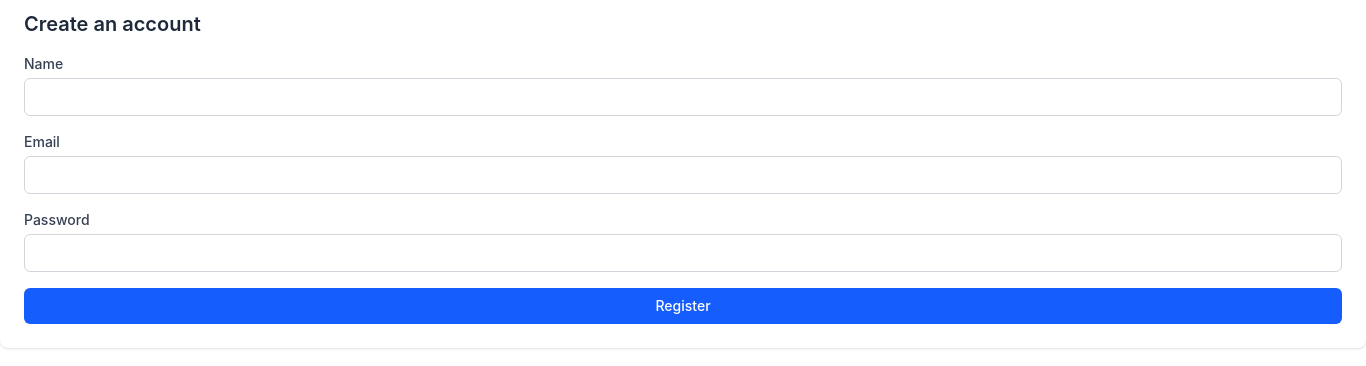
Test: disables the register button while the mutation is pending
In the field labelled "Name": (683, 97) x1=24 y1=78 x2=1342 y2=116, type "Jane Doe"
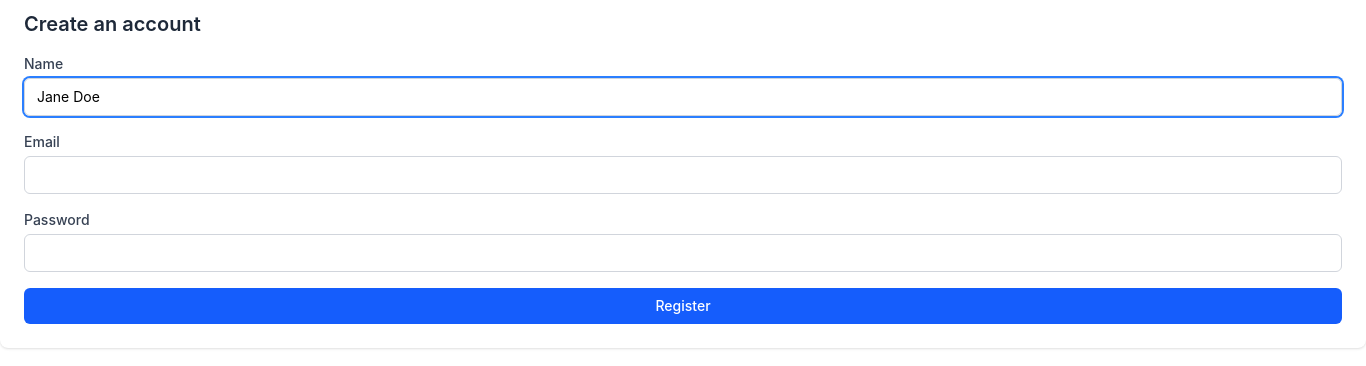
In the field labelled "Email": (683, 175) x1=24 y1=156 x2=1342 y2=194, type "jane@example.com"
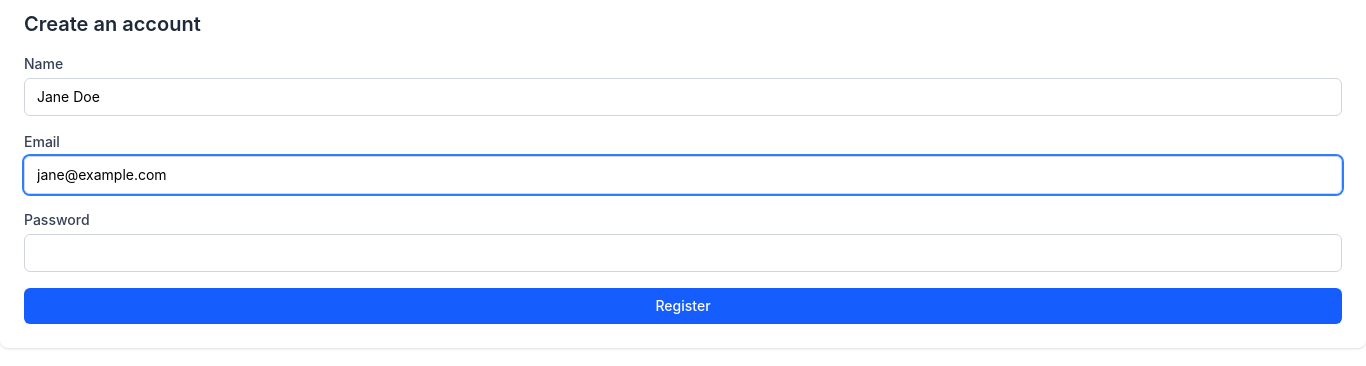
In the password field labelled "Password": (683, 253) x1=24 y1=234 x2=1342 y2=272, type "secret123"
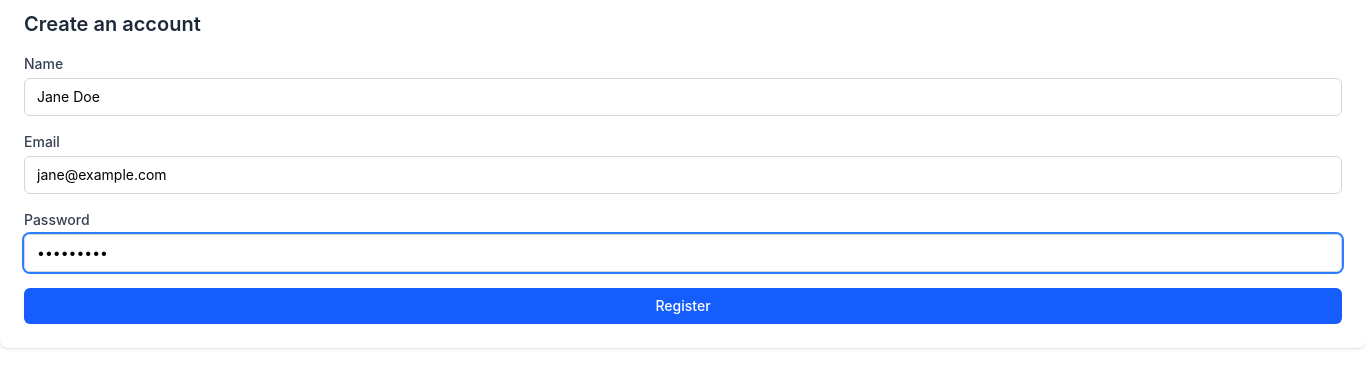
Click the button "Register": (683, 306) x1=24 y1=288 x2=1342 y2=324
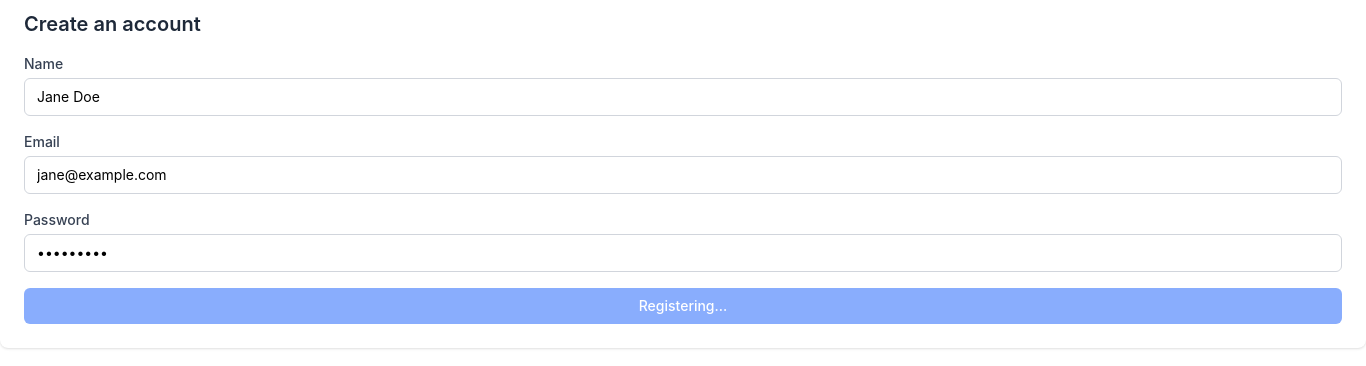
Now the button "Registering..." is disabled, box x1=24 y1=288 x2=1342 y2=324
